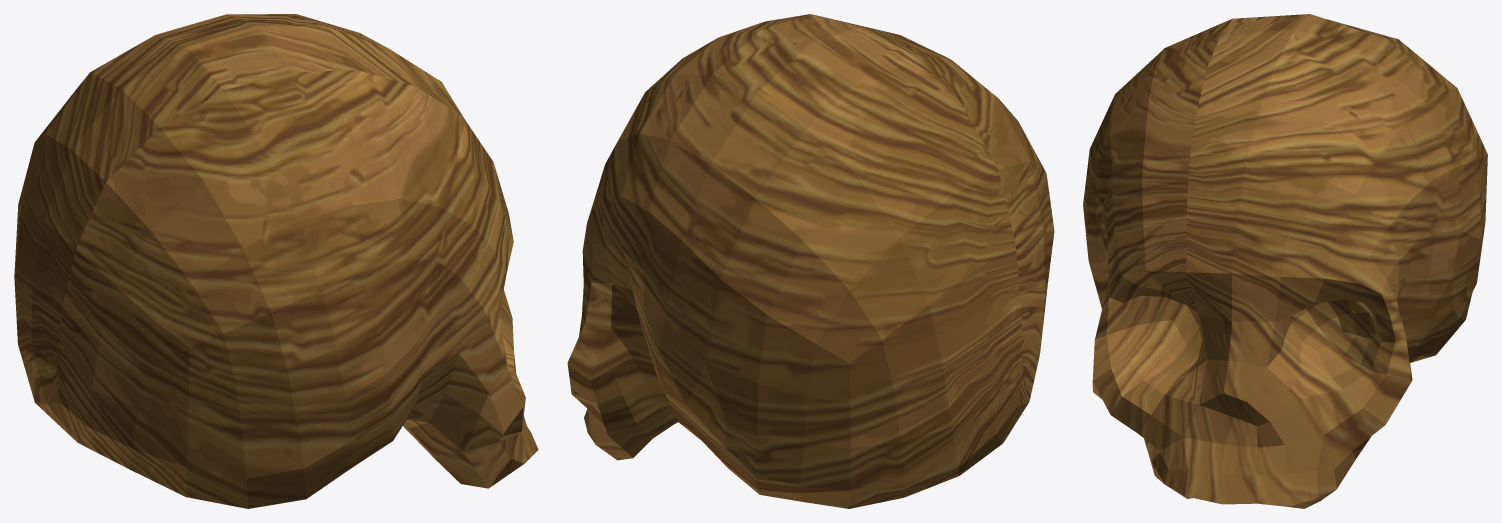
Rendered from Skull.fbx.
3 renders of one model, left to right at view 1: azimuth 30°, elevation 25°; view 2: azimuth 150°, elevation 25°; view 3: azimuth 270°, elevation 25°, orthographic. The views are drawn at different scales.
Visible parts, largest first — view 1: SKULLBO; view 2: SKULLBO; view 3: SKULLBO.
Part boxes in pixels (box(x1,y1,x2,y2)): SKULLBO: box(14, 14, 538, 508); SKULLBO: box(567, 14, 1054, 508); SKULLBO: box(1083, 14, 1487, 508).
Size of the model in its own units: 0.9147 by 0.8984 by 0.8324.
